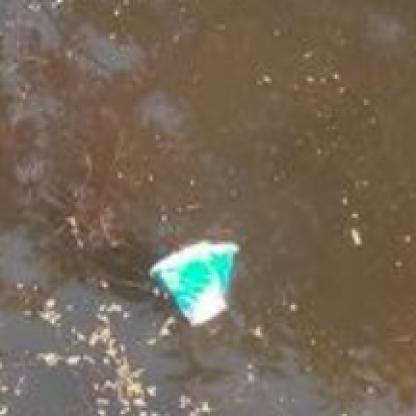Trash: (142, 236, 242, 331)
